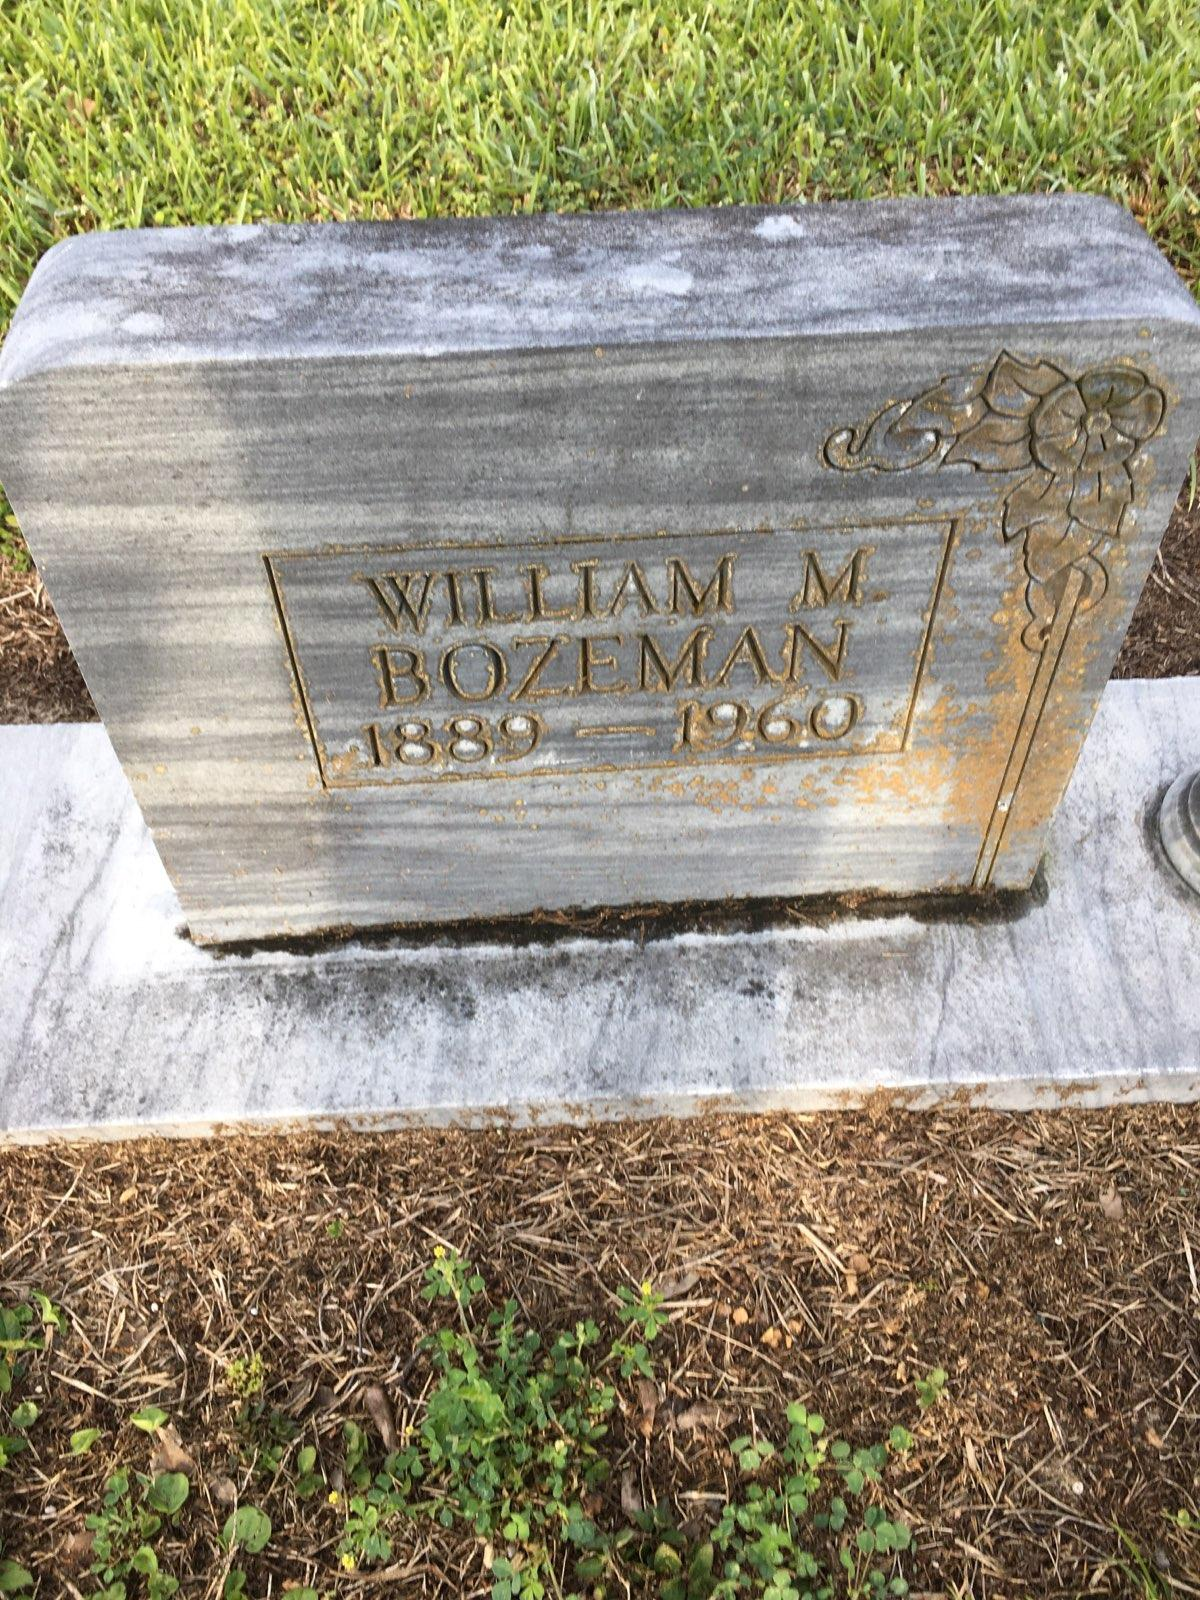upright: (0, 166, 1192, 1169)
